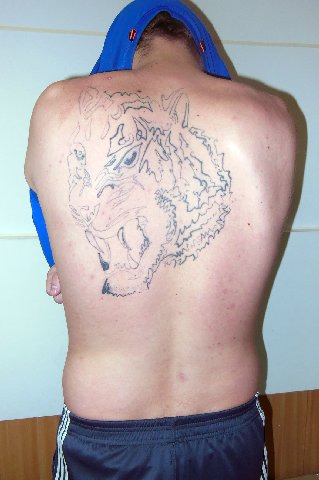tatu5_tigr: (50, 78, 266, 303)
